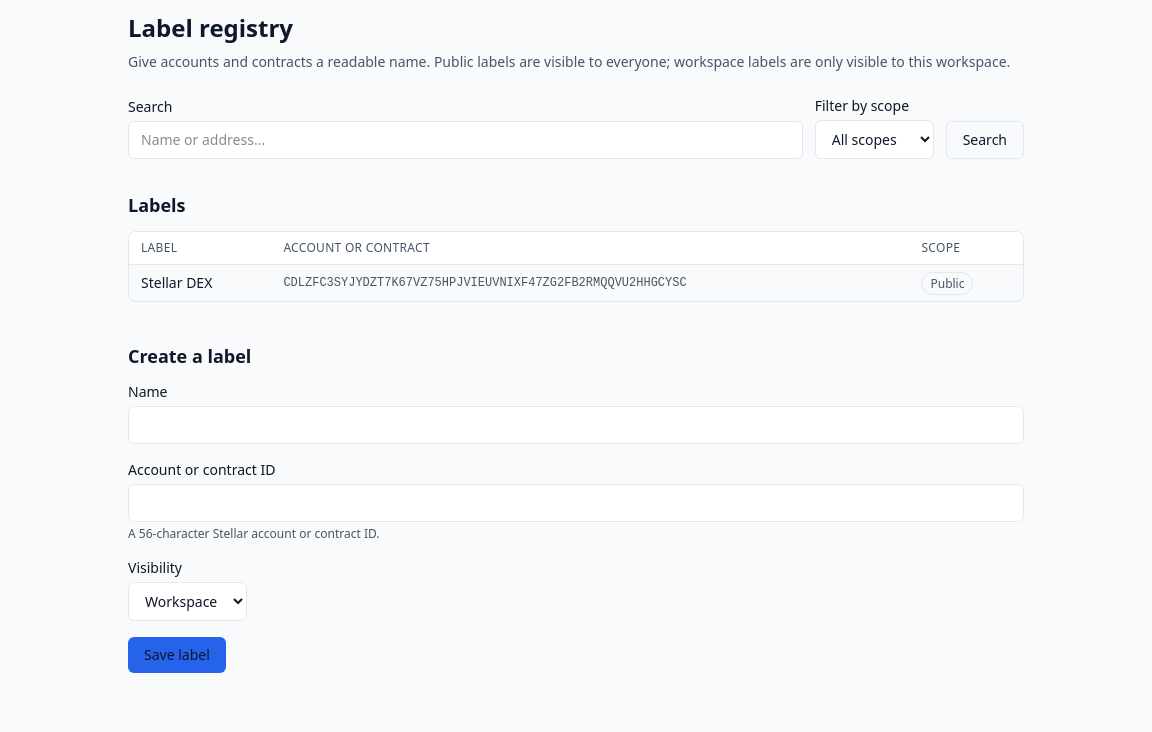
Test: Label registry page › creates a label and reloads the registry
Step 1. Type "DEX" into the field labelled "Name" → (576, 425), box [128,406,1024,444]
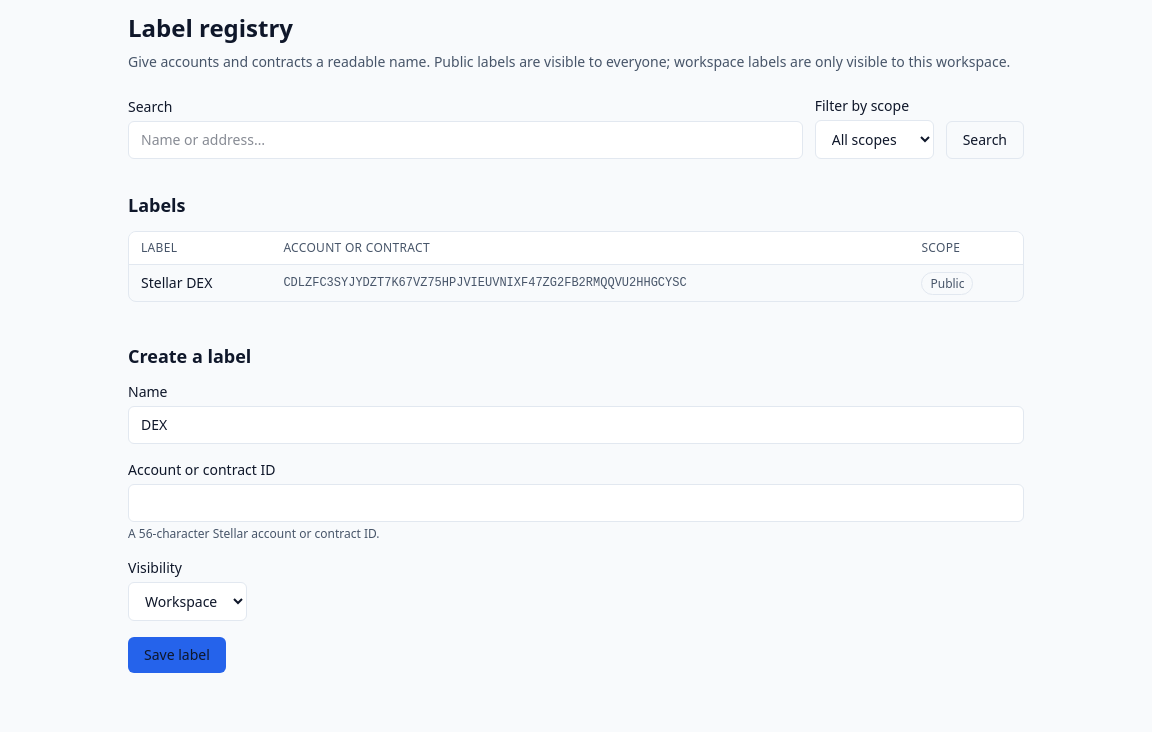
Step 2. Type "CDLZFC3SYJYDZT7K67VZ75HPJVIEUVNIXF47ZG2FB2RMQQVU2HHGCYSC" into the field labelled "Account or contract ID" → (576, 503), box [128,484,1024,522]
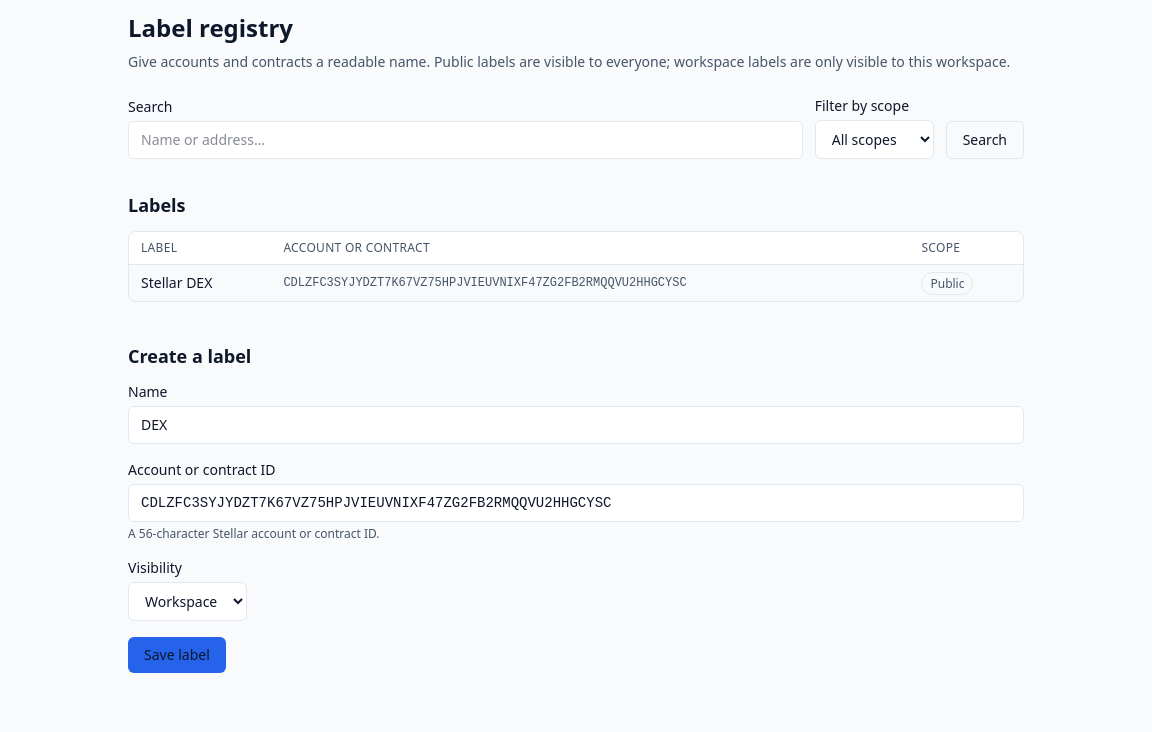
Step 3. Click the button "Save label" → (177, 655), box [128,637,226,673]
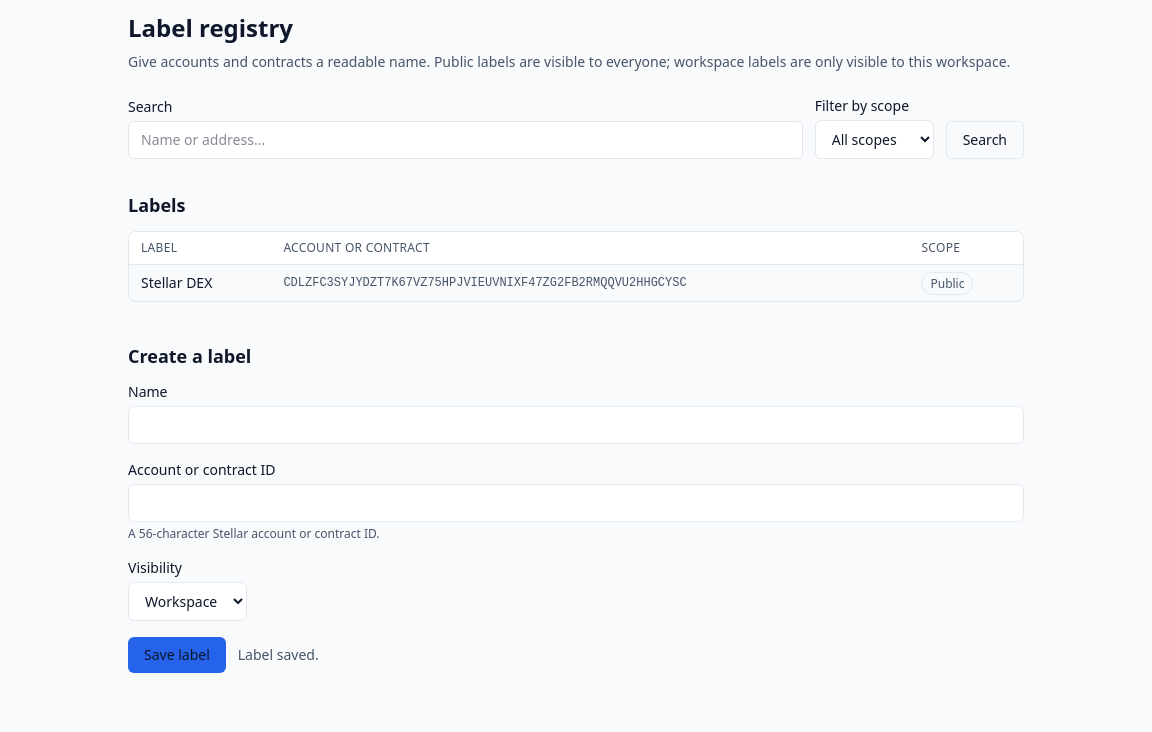
Check: the text "Label saved." is shown, box [238,645,319,665]
